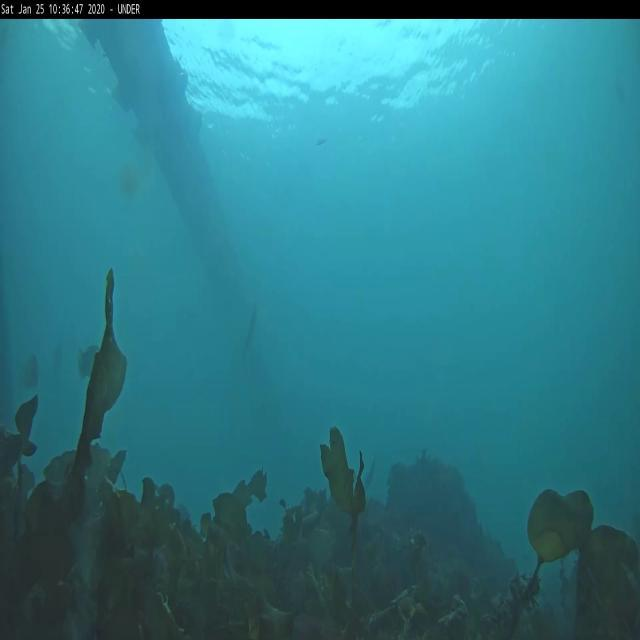fish: (17, 354, 44, 396), (243, 309, 260, 369), (363, 459, 379, 496)
